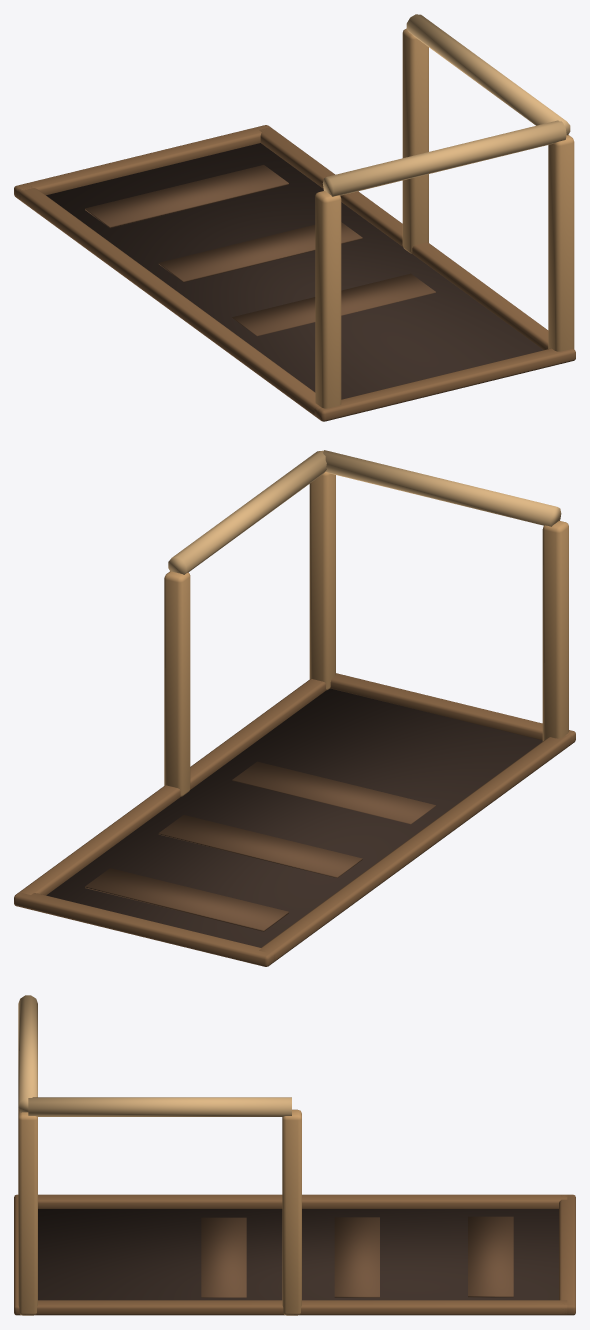
Rendered from attic-hatch.glb.
3 renders of one model, top to bottom at view 1: azimuth 30°, elevation 25°; view 2: azimuth 150°, elevation 25°; view 3: azimuth 270°, elevation 25°, orthographic. The views are drawn at different scales.
Parts seen in each view (by area): view 1: rail; view 2: rail; view 3: rail.
Boxes of the visible parts, x1,y1,x2,y2 form: rail: (14, 14, 575, 421); rail: (14, 450, 575, 966); rail: (14, 995, 575, 1315).
Bounding box in the file's own units: 0.945 × 0.835 × 1.98.
